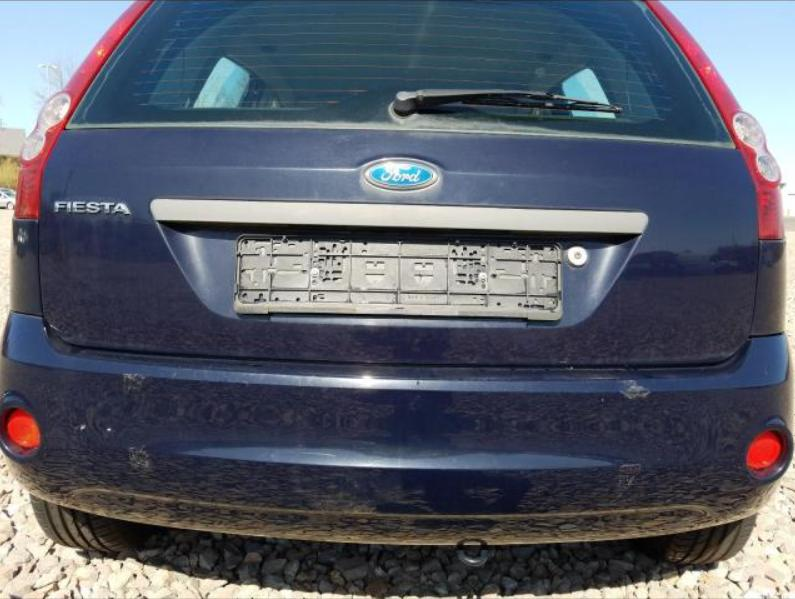Back-bumper: (3, 313, 792, 544)
Back-wheel: (32, 497, 155, 550), (634, 517, 759, 564)
Back-windshield: (67, 0, 733, 145)
License-plate: (236, 235, 559, 317)
Quarter-panel: (8, 219, 44, 315), (753, 240, 787, 336)
Tail-light: (649, 0, 785, 240), (12, 0, 149, 221)
Trunk: (38, 129, 761, 367)
